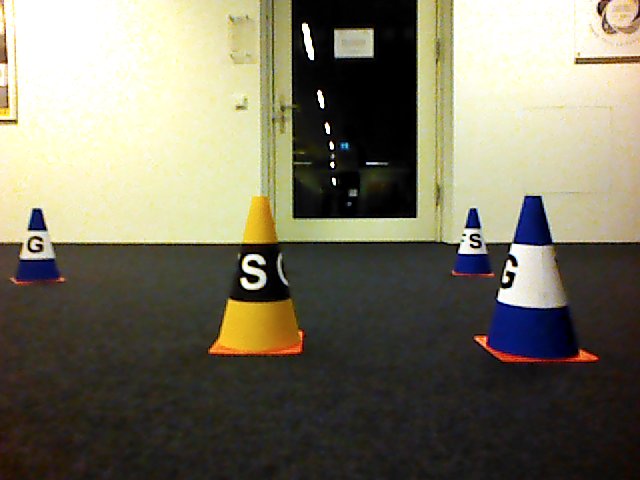bluecone: (478, 195, 600, 366), (10, 208, 67, 285), (448, 207, 496, 279)
yellowcone: (208, 196, 304, 358)
